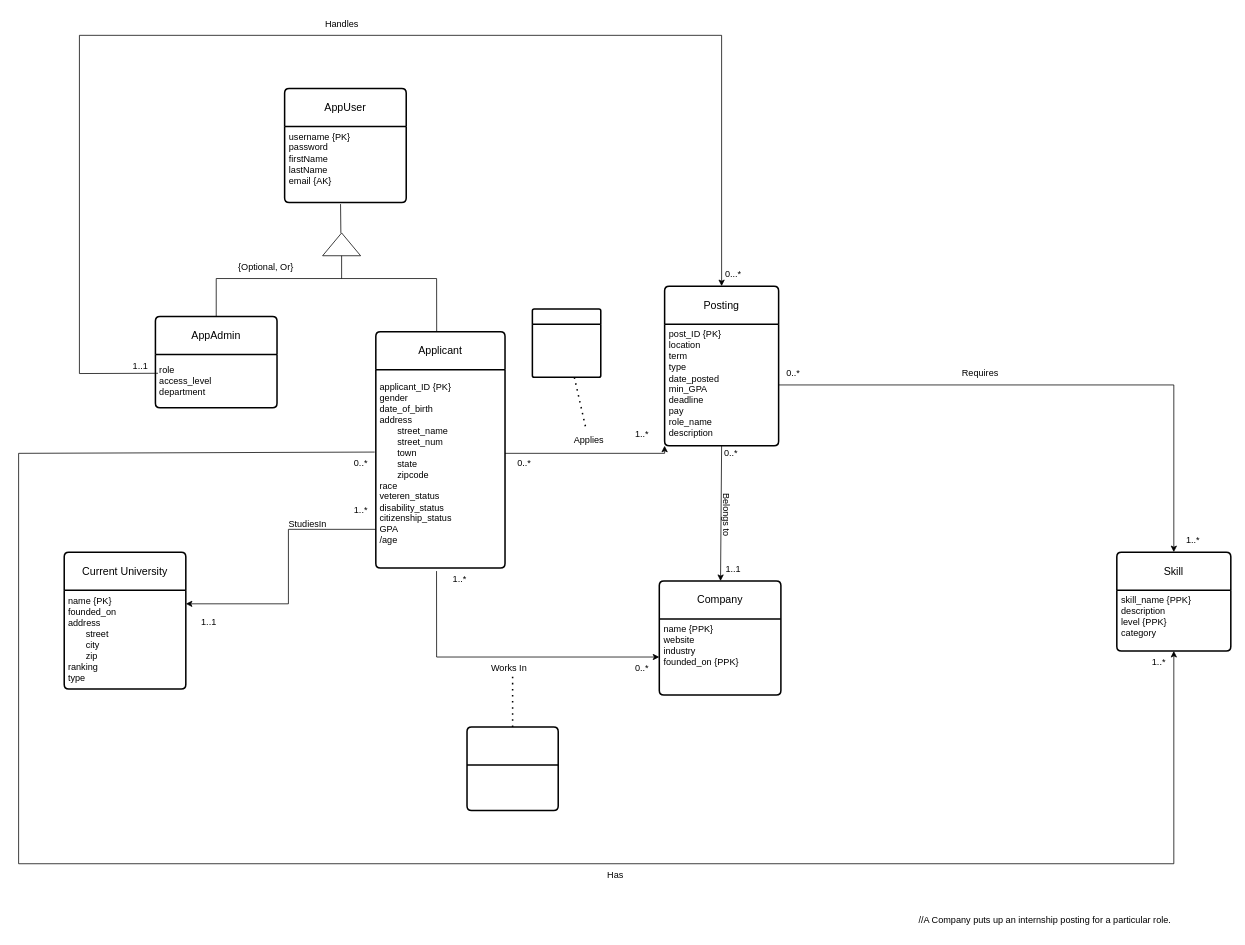
Image size: 1245x945. Some labels were removed from this diagram. The centre of each missing label's shape, as x and y in pixels:
"date status sponsorship? relocation?" goes at [566,343].
"Salary Months Postion" goes at [512,768].
